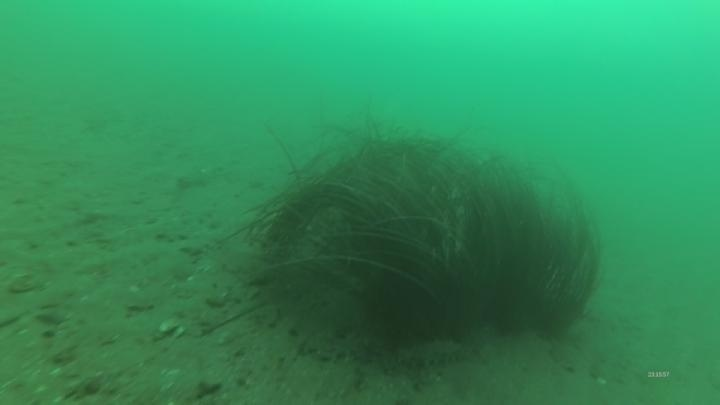holothurian: (294, 325, 384, 367), (393, 335, 471, 372)
